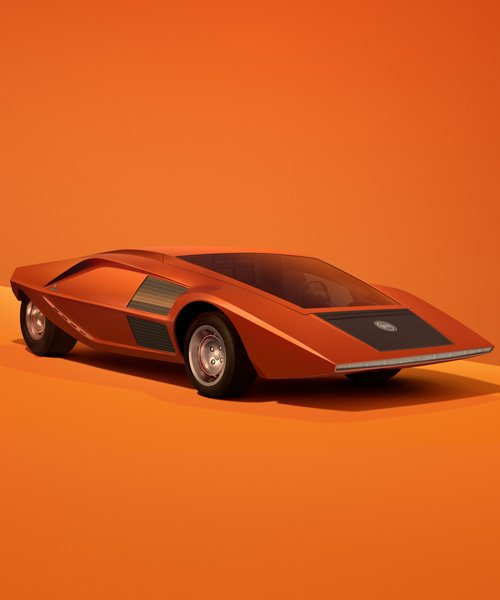car: (16, 232, 492, 398)
